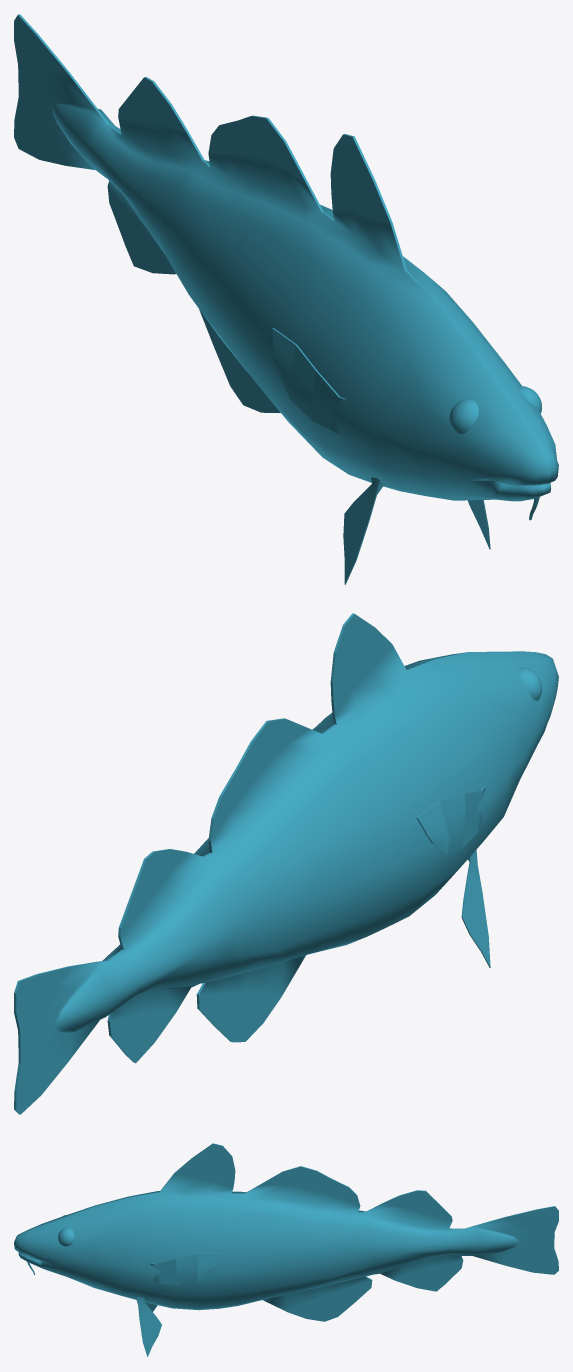
File: fbx_cod.fbx
3 renders of one model, top to bottom at view 1: azimuth 30°, elevation 25°; view 2: azimuth 150°, elevation 25°; view 3: azimuth 270°, elevation 25°, orthographic. The views are drawn at different scales.
Visible parts, largest first — view 1: polySurface2; view 2: polySurface2; view 3: polySurface2.
Part boxes in pixels (box(x1,y1,x2,y2)): polySurface2: box(14, 14, 558, 584); polySurface2: box(14, 613, 558, 1114); polySurface2: box(14, 1143, 558, 1356).
Size of the model in its own units: 2.69 by 6.11 by 15.38.
